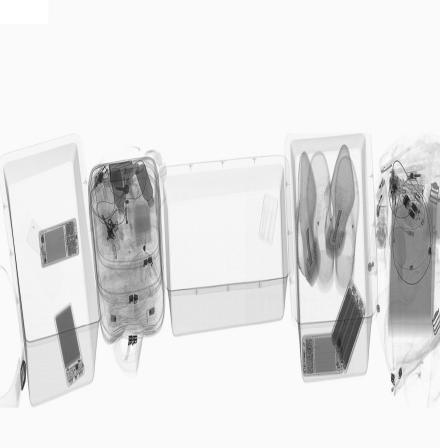Lighter: (376, 183, 387, 218), (376, 175, 385, 203)
